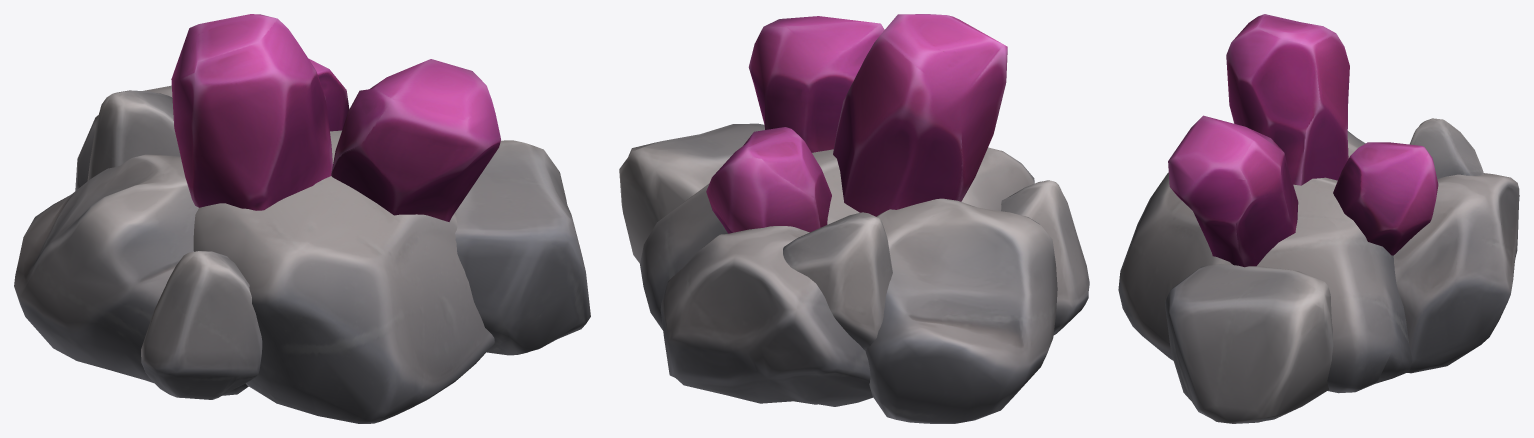
File: resource_rock_1.glb
3 renders of one model, left to right at view 1: azimuth 30°, elevation 25°; view 2: azimuth 150°, elevation 25°; view 3: azimuth 270°, elevation 25°, orthographic. The views are drawn at different scales.
Parts seen in each view (by area): view 1: Cube.003_Retopology.005_Material_0; view 2: Cube.003_Retopology.005_Material_0; view 3: Cube.003_Retopology.005_Material_0.
Part boxes in pixels (x1=…): Cube.003_Retopology.005_Material_0: x1=14, y1=14, x2=590, y2=423; Cube.003_Retopology.005_Material_0: x1=619, y1=14, x2=1089, y2=423; Cube.003_Retopology.005_Material_0: x1=1118, y1=14, x2=1519, y2=423.
Bounding box in the file's own units: 2.53 × 1.77 × 2.21.
Materials: 1 (1 with a texture image).
